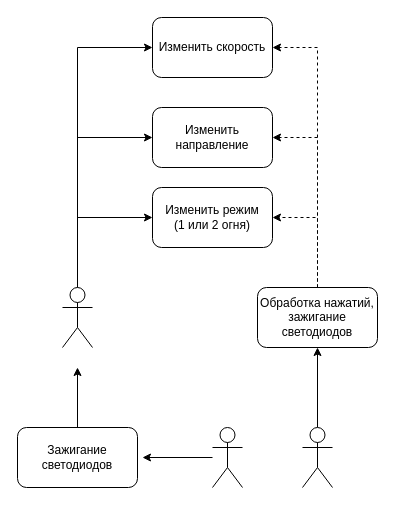
This 395x526 diagram has some shape labels left out. Each missing label, with the centre of its shape:
"Микроконтроллер" belongs at (317,457).
"Пользователь" belongs at (77,317).
"Светодиоды" belongs at (227,457).
